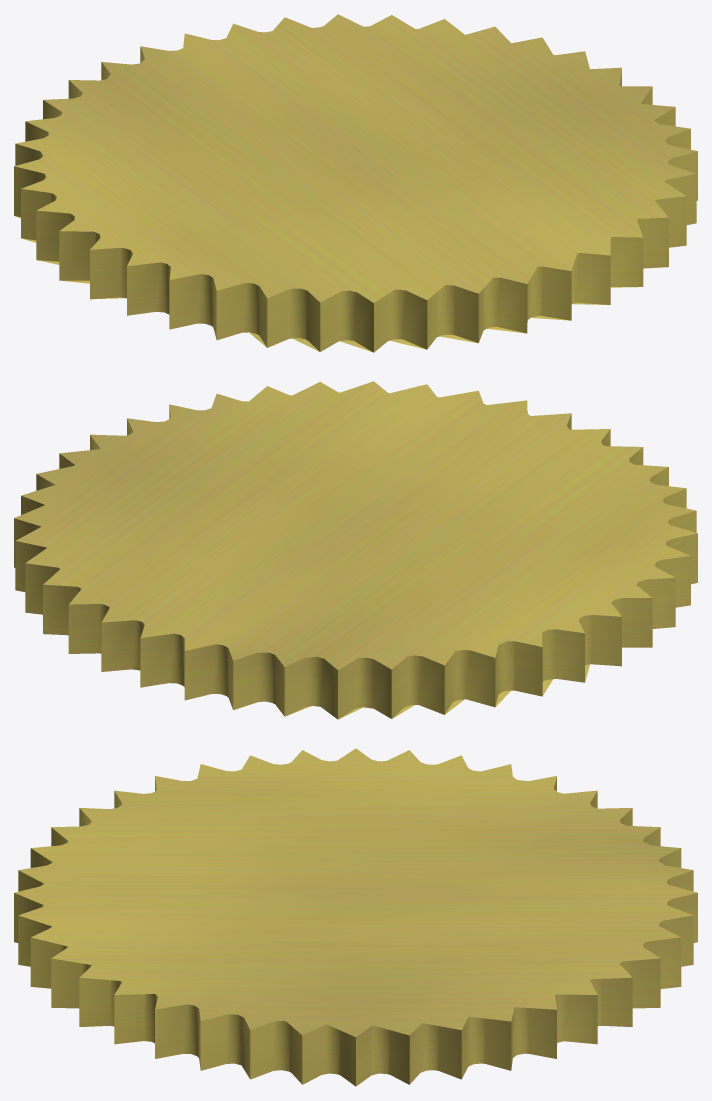
File: SprocketFacet3Spoke040.fbx
3 renders of one model, top to bottom at view 1: azimuth 30°, elevation 25°; view 2: azimuth 150°, elevation 25°; view 3: azimuth 270°, elevation 25°, orthographic.
Visible parts, largest first — view 1: SprocketFacet3Spoke040; view 2: SprocketFacet3Spoke040; view 3: SprocketFacet3Spoke040.
Boxes of the visible parts, x1,y1,x2,y2 form: SprocketFacet3Spoke040: (14, 14, 697, 352); SprocketFacet3Spoke040: (14, 381, 697, 719); SprocketFacet3Spoke040: (14, 748, 697, 1086).
Bounding box in the file's own units: 247 × 19.69 × 247.
